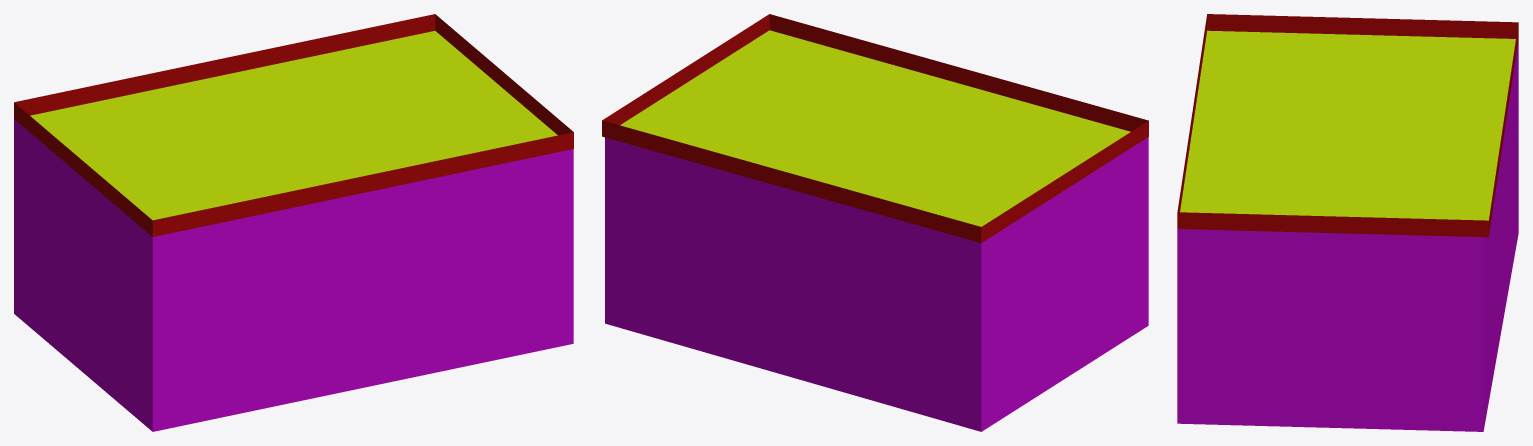
The model's file is rmc_137.glb.
3 views of the same model, side by side, from view 1: azimuth 30°, elevation 25°; view 2: azimuth 150°, elevation 25°; view 3: azimuth 270°, elevation 25° (orthographic). The views are drawn at different scales.
Parts seen in each view (by area): view 1: rmc_137; view 2: rmc_137; view 3: rmc_137.
Boxes of the visible parts, left/top/right/bottom form: rmc_137: left=14, top=14, right=573, bottom=431; rmc_137: left=602, top=14, right=1148, bottom=431; rmc_137: left=1177, top=14, right=1518, bottom=431.
Bounding box in the file's own units: 9.25 × 4.42 × 6.46.
